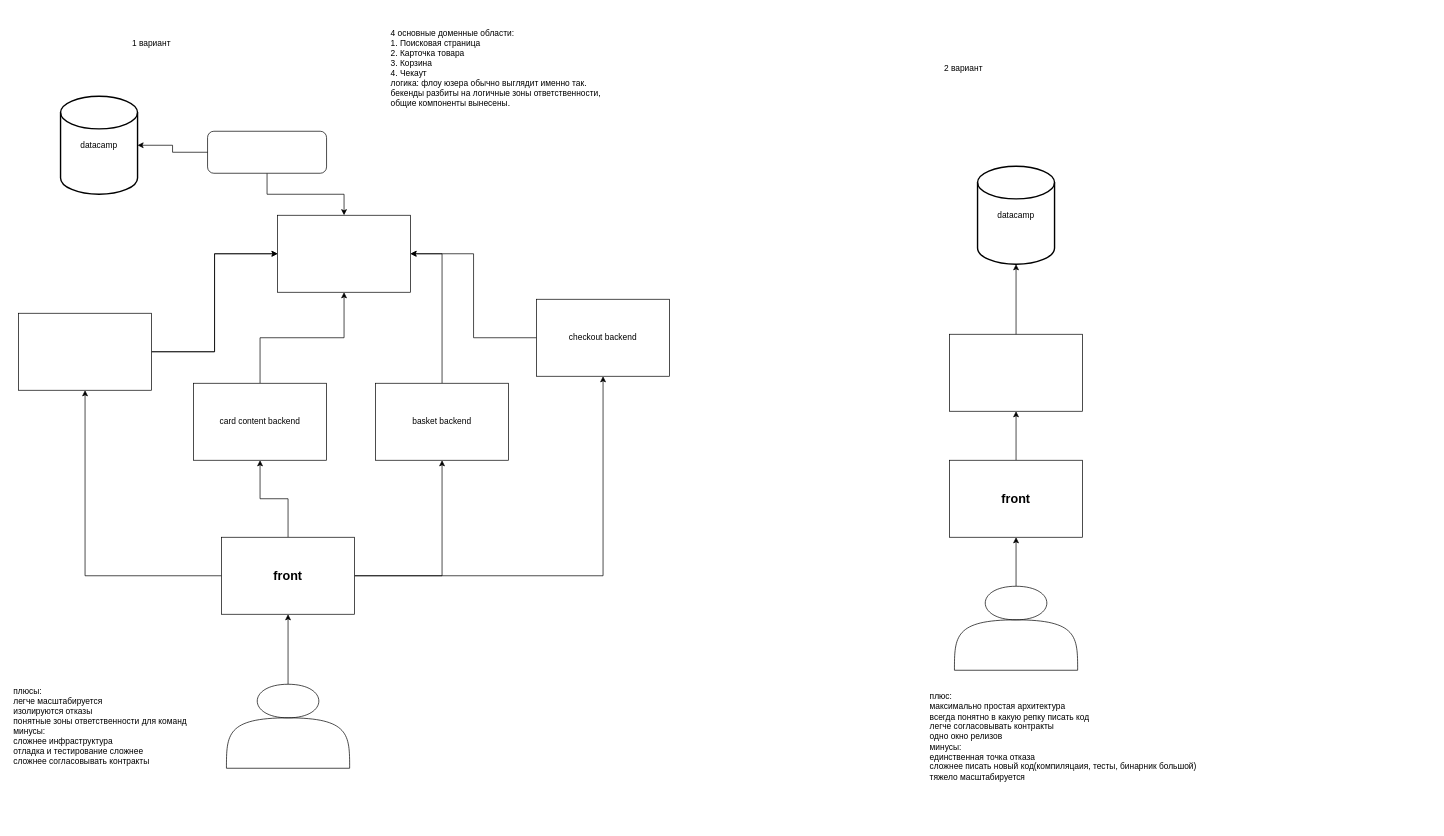
Some shapes in this 1444 by 836 pixel diagram are drawn without their labels. The box of each missing label's shape, as (x1, y1, x2, y2) in pixels:
index backend: (207, 131, 327, 173)
offerinfo backend: (277, 215, 411, 292)
report: (949, 334, 1083, 411)
search backend: (18, 313, 152, 390)
